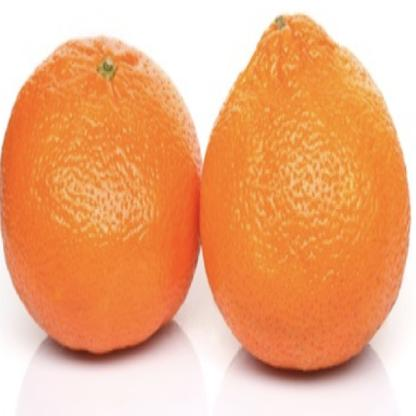fresh: (1, 17, 410, 377)
